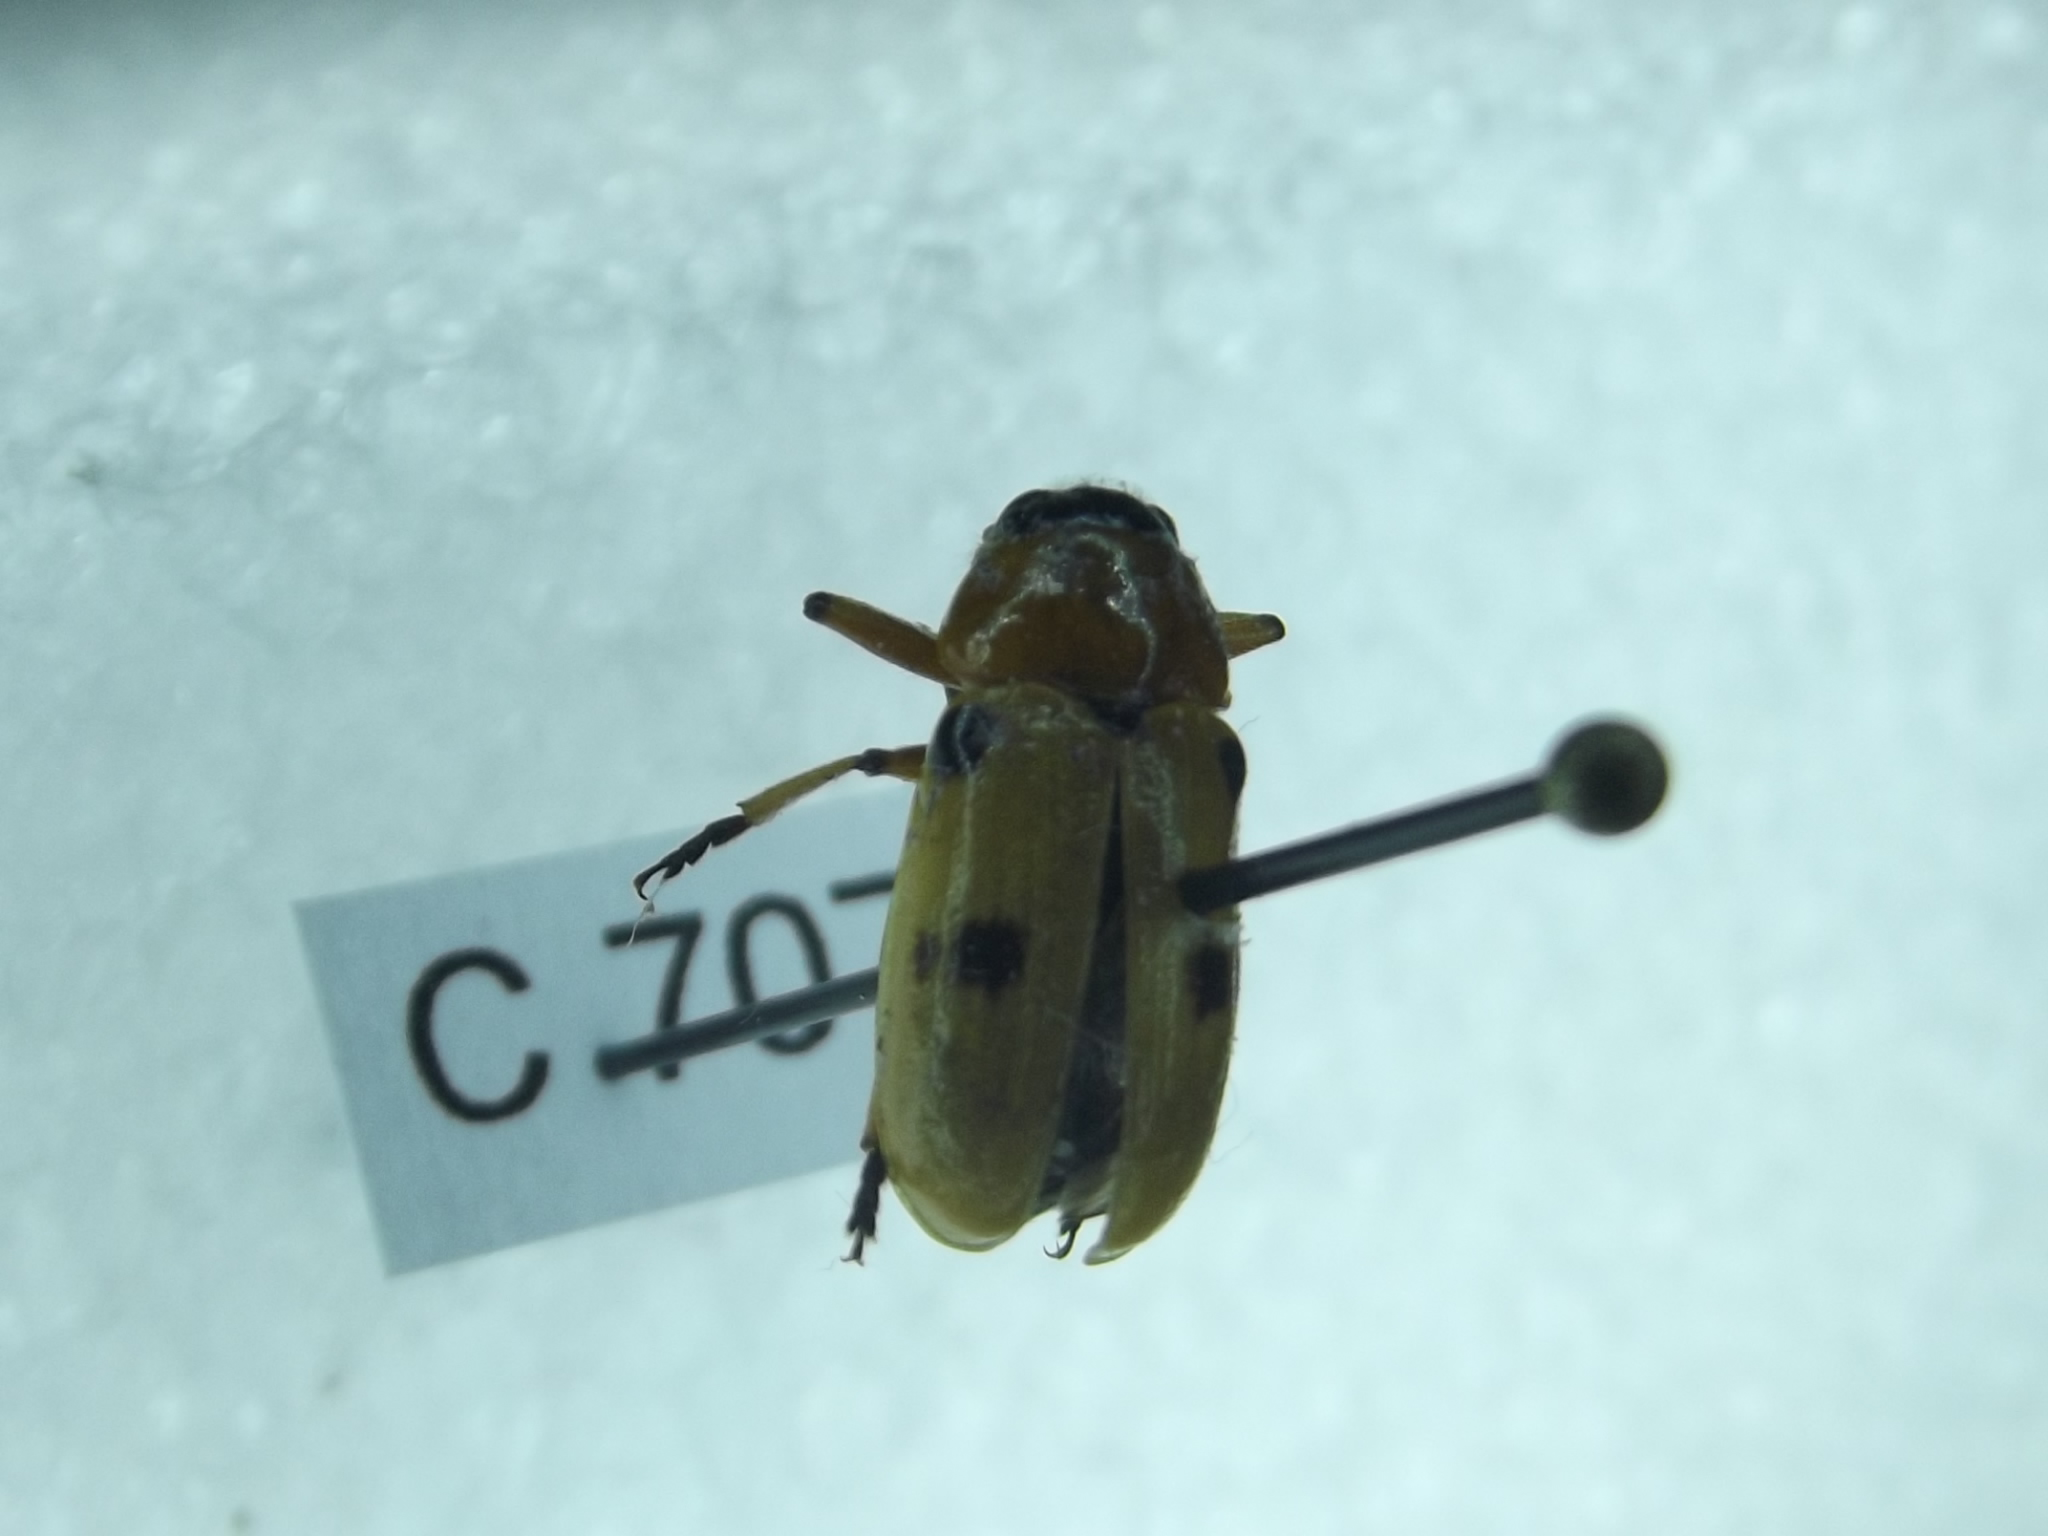Tituboea_macropus: (627, 474, 1293, 1283)
